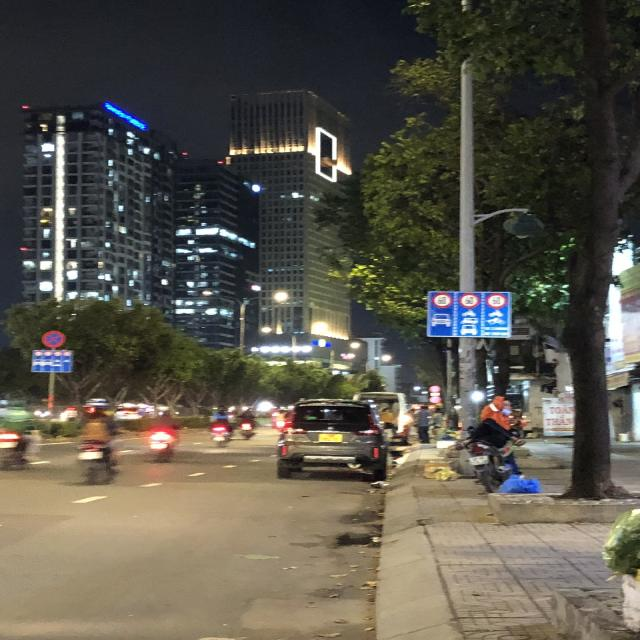Bien bao cam dung xe va do xe: (38, 327, 68, 350)
Bien bao toc do toi da cho phep: (430, 291, 455, 311), (485, 291, 512, 309), (458, 291, 481, 309)
